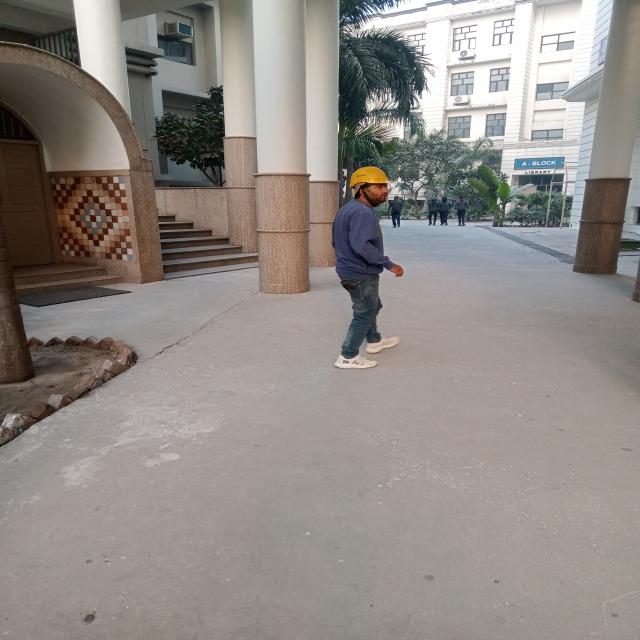no jacket: (326, 164, 413, 370)
unsafe: (391, 195, 404, 228), (426, 197, 440, 225), (455, 196, 467, 227), (440, 195, 450, 226)
